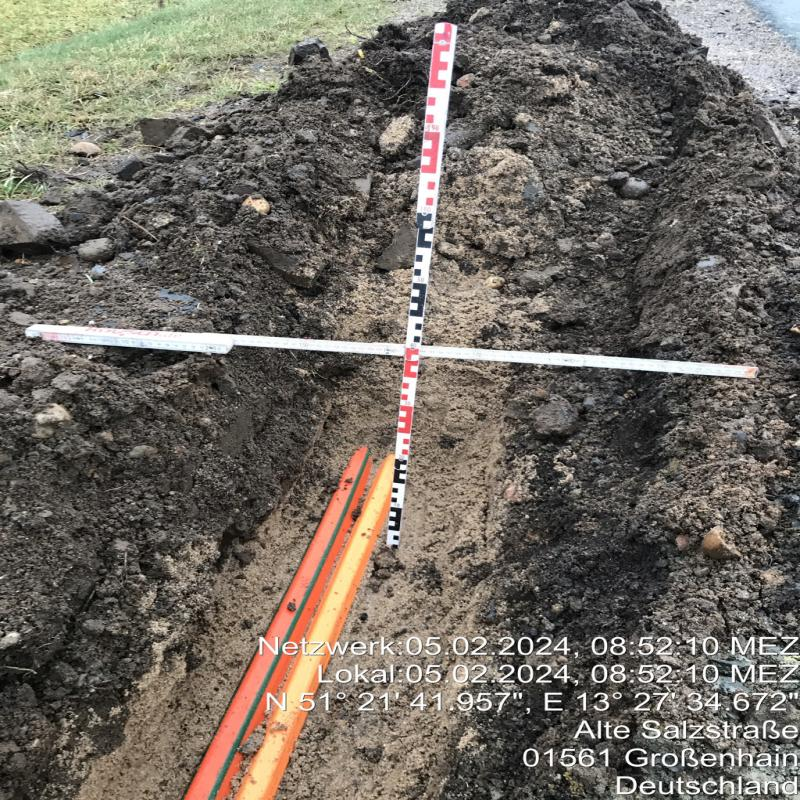Orang-Speednetrohrchen: (185, 453, 393, 800)
